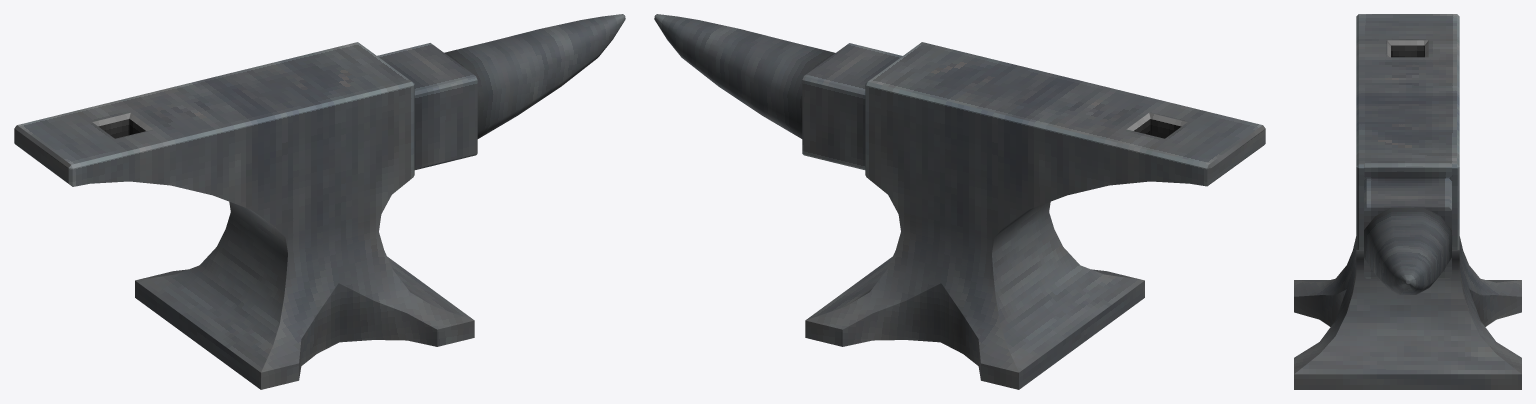
Rendered from lowpoly_pixelart_anvil.glb.
3 views of the same model, side by side, from view 1: azimuth 30°, elevation 25°; view 2: azimuth 150°, elevation 25°; view 3: azimuth 270°, elevation 25° (orthographic). The views are drawn at different scales.
Parts seen in each view (by area): view 1: anvil2; view 2: anvil2; view 3: anvil2.
Boxes of the visible parts, bbox=[...] form: anvil2: bbox=[14, 14, 625, 389]; anvil2: bbox=[654, 14, 1265, 389]; anvil2: bbox=[1294, 14, 1521, 389].
Bounding box in the file's own units: 44.1 × 17.08 × 16.5.
1 material, 1 textured.
